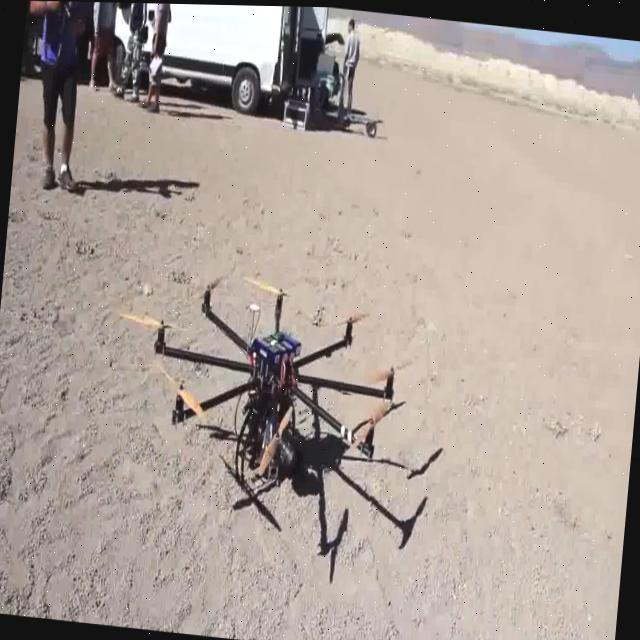drone: (0, 222, 640, 640)
